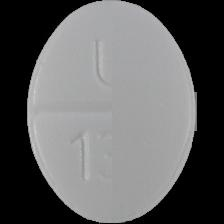61786-658: (0, 0, 224, 224)
